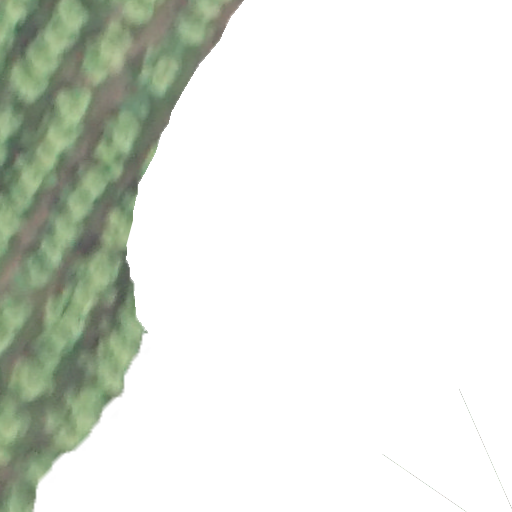eucalipto: (9, 60, 51, 102), (26, 39, 68, 77), (45, 111, 82, 154), (100, 208, 135, 253), (1, 400, 35, 446), (14, 361, 55, 399), (40, 19, 83, 55), (81, 253, 116, 293), (109, 111, 139, 156), (18, 153, 53, 191), (172, 14, 211, 48), (55, 87, 92, 122), (78, 47, 112, 85), (54, 1, 96, 31), (60, 187, 98, 220), (24, 252, 55, 291), (3, 180, 37, 214), (149, 54, 180, 91), (52, 213, 83, 250), (37, 334, 67, 372), (100, 18, 133, 52), (119, 88, 150, 123), (50, 318, 75, 359), (59, 308, 88, 343), (122, 1, 155, 31), (95, 145, 124, 179), (188, 1, 227, 25), (98, 41, 124, 76), (7, 300, 34, 330), (1, 107, 24, 142), (35, 137, 62, 165), (39, 238, 64, 268), (84, 172, 108, 197)
